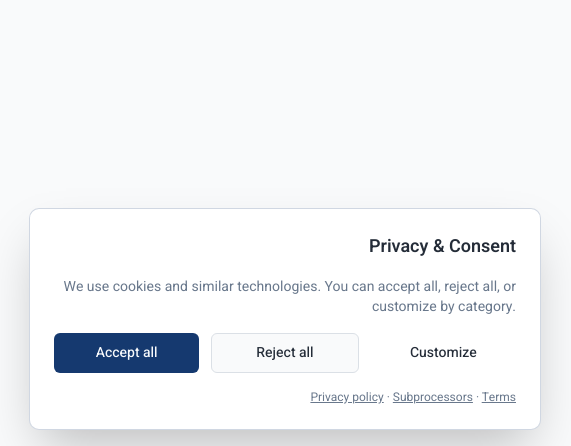
it: ConsentBanner › toggles to detailed view via Customize
Click the button "Customize": (443, 353) x1=371 y1=333 x2=516 y2=373
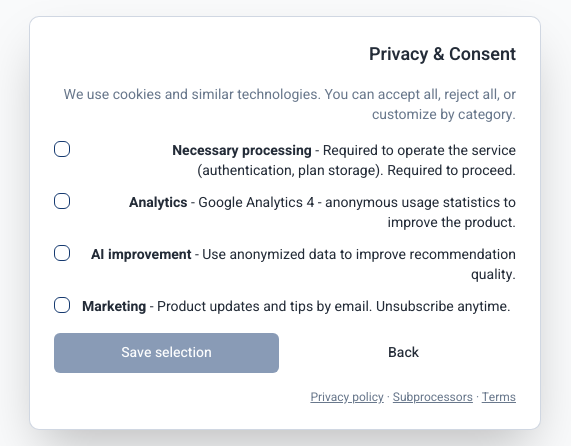
Check: the button "Save selection" is shown, box x1=54 y1=333 x2=279 y2=373
Check: the text "Necessary processing" is shown, box x1=172 y1=141 x2=312 y2=161
Check: the text "AI improvement" is shown, box x1=91 y1=244 x2=192 y2=265
